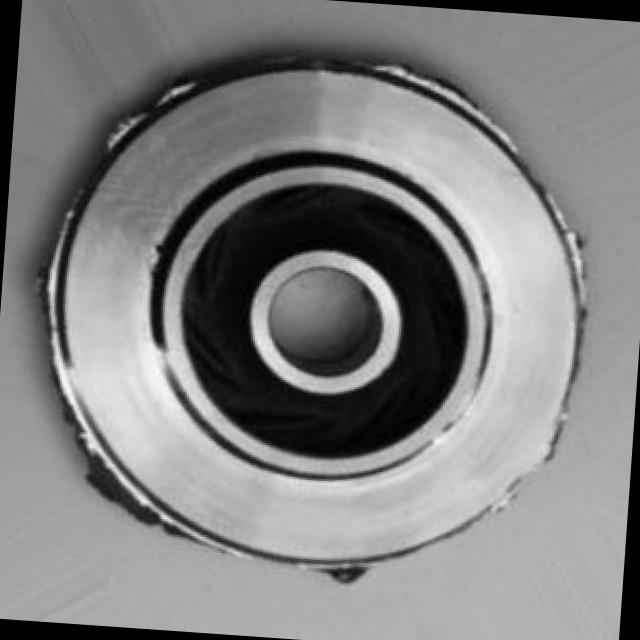Defect: (388, 55, 494, 114)
